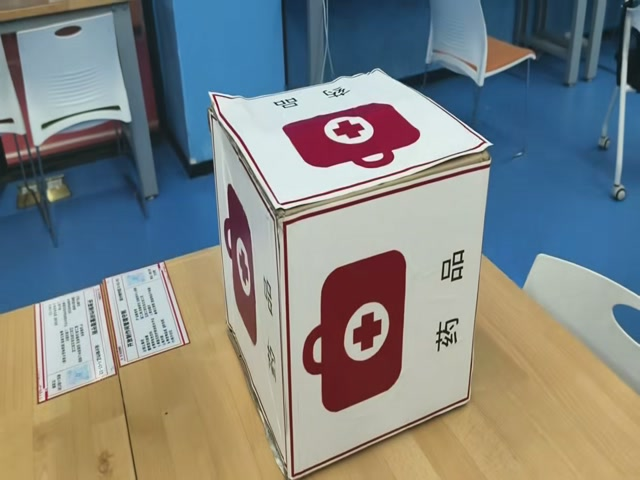Cube_medicine: (214, 68, 499, 214)
